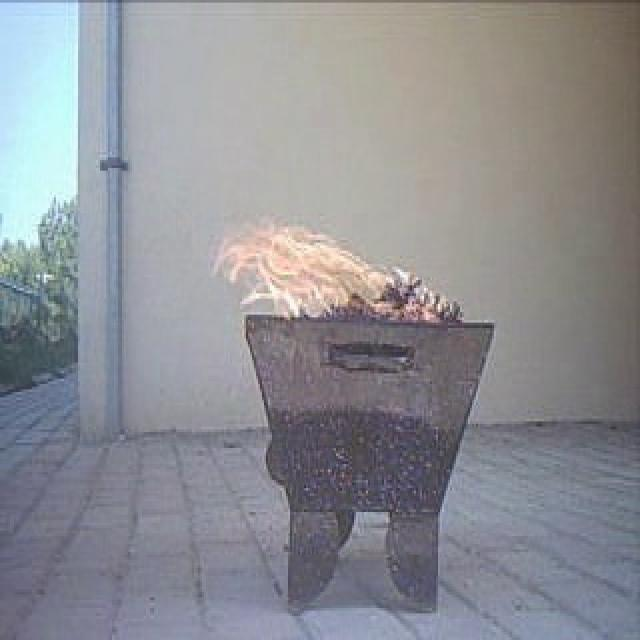Fire: (217, 197, 405, 322)
